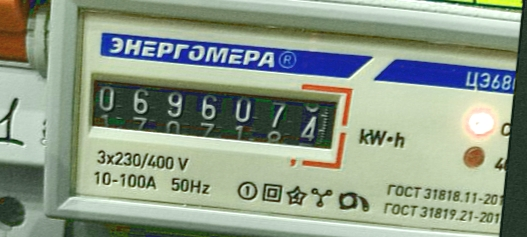0: (230, 91, 252, 120), (95, 79, 116, 109)
4: (297, 110, 317, 140)
6: (197, 88, 218, 118), (129, 83, 149, 112)
7: (265, 95, 287, 127)
9: (162, 87, 183, 116)
screen: (70, 54, 357, 168)
